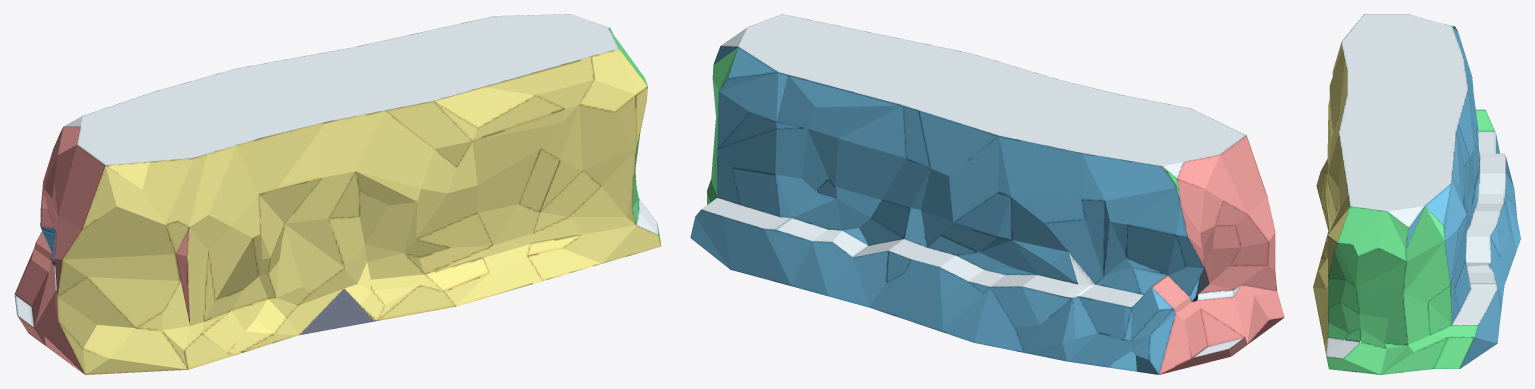
The picture shows the model from 3 angles, left to right: view 1: azimuth 30°, elevation 25°; view 2: azimuth 150°, elevation 25°; view 3: azimuth 270°, elevation 25°; orthographic projection. The views are drawn at different scales.
Visible parts, largest first — view 1: polySurface1; view 2: polySurface1; view 3: polySurface1.
Part boxes in pixels (<box>): polySurface1: <box>14,14,661,374</box>; polySurface1: <box>690,14,1284,374</box>; polySurface1: <box>1313,14,1520,374</box>.
Size of the model in its own units: 3646 by 1148 by 1423.
1 material, 1 textured.
